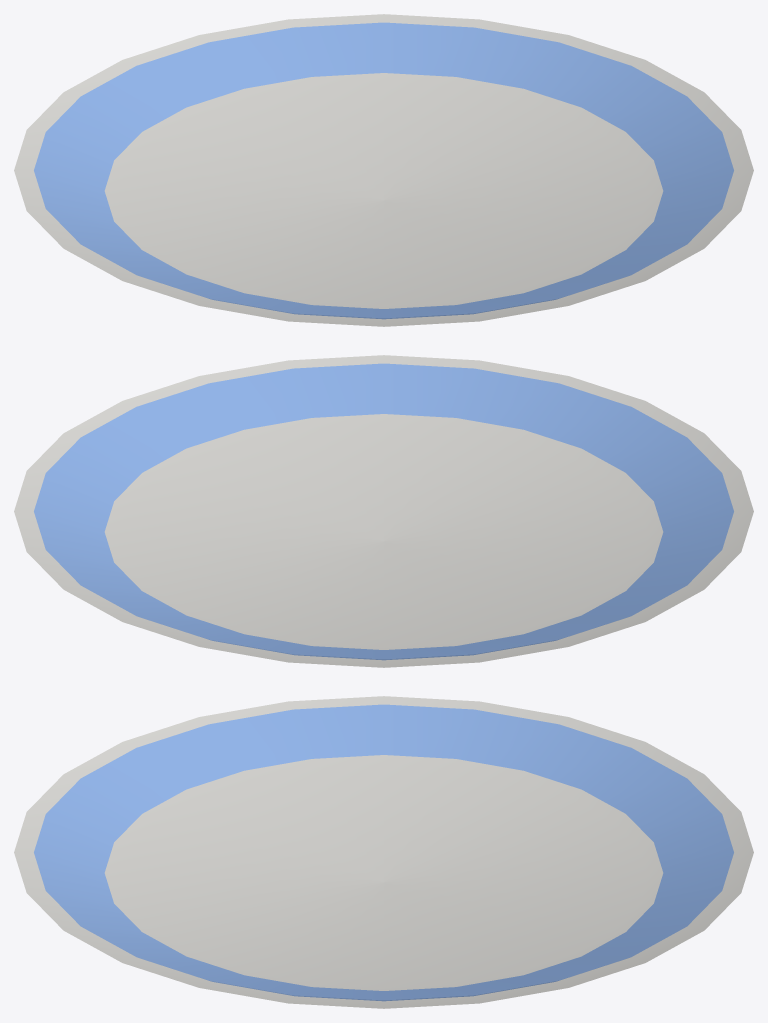
The model's file is plate.glb.
The picture shows the model from 3 angles, top to bottom: view 1: azimuth 30°, elevation 25°; view 2: azimuth 150°, elevation 25°; view 3: azimuth 270°, elevation 25°; orthographic projection.
Parts seen in each view (by area): view 1: root; view 2: root; view 3: root.
Part boxes in pixels (x1,y1,x2,y2): root: [14, 14, 753, 326]; root: [14, 355, 753, 667]; root: [14, 696, 753, 1008].
Size of the model in its own units: 0.56 by 0.035 by 0.56.
